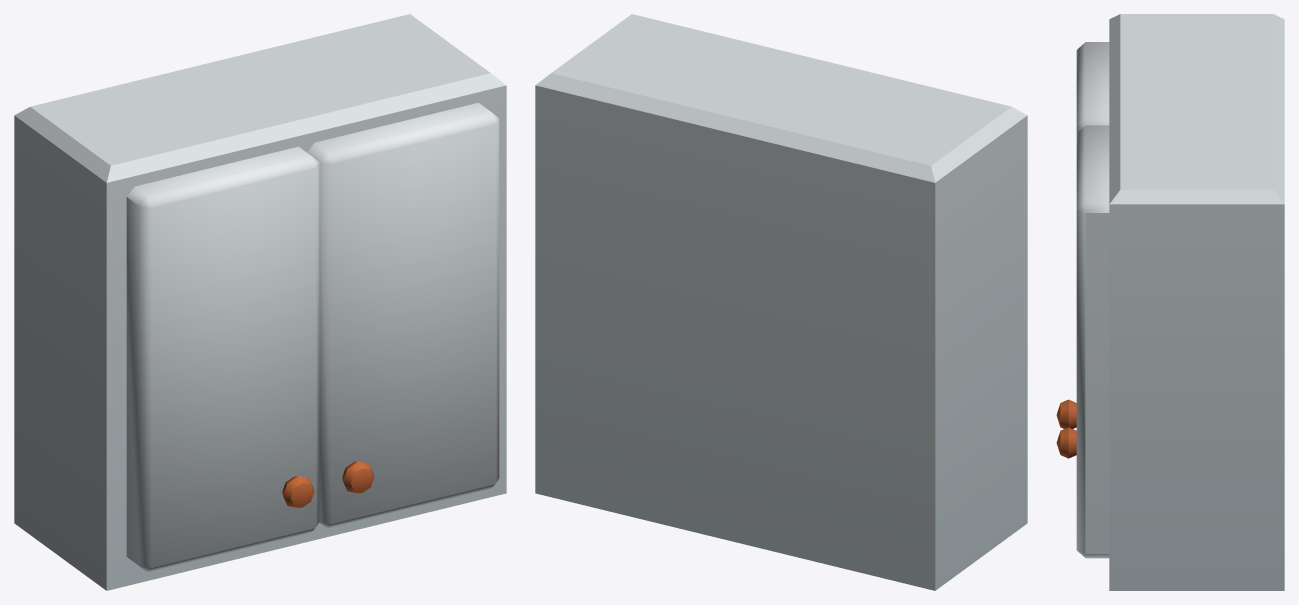
Rendered from cabinet.glb.
The picture shows the model from 3 angles, left to right: view 1: azimuth 30°, elevation 25°; view 2: azimuth 150°, elevation 25°; view 3: azimuth 270°, elevation 25°; orthographic projection. The views are drawn at different scales.
Parts seen in each view (by area): view 1: kitchencabinet; view 2: kitchencabinet; view 3: kitchencabinet.
Part boxes in pixels (<box>): kitchencabinet: <box>14,14,506,590</box>; kitchencabinet: <box>535,14,1027,590</box>; kitchencabinet: <box>1056,14,1284,590</box>.
Bounding box in the file's own units: 2 × 2 × 1.04.
1 material, 1 textured.
